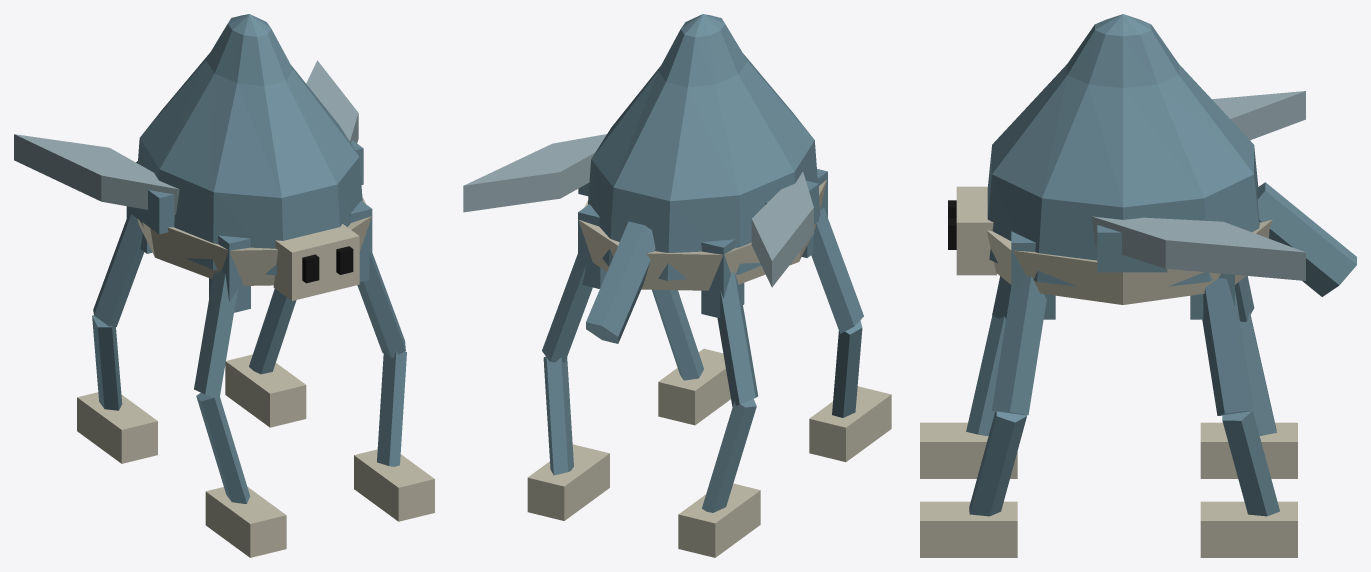
Rendered from nacreep.glb.
3 renders of one model, left to right at view 1: azimuth 30°, elevation 25°; view 2: azimuth 150°, elevation 25°; view 3: azimuth 270°, elevation 25°, orthographic. The views are drawn at different scales.
Parts seen in each view (by area): view 1: Nacreep; view 2: Nacreep; view 3: Nacreep.
Boxes of the visible parts, <box> form: Nacreep: <box>14,14,434,557</box>; Nacreep: <box>463,14,891,557</box>; Nacreep: <box>920,14,1356,557</box>.
Size of the model in its own units: 0.42 by 0.6 by 0.48.
